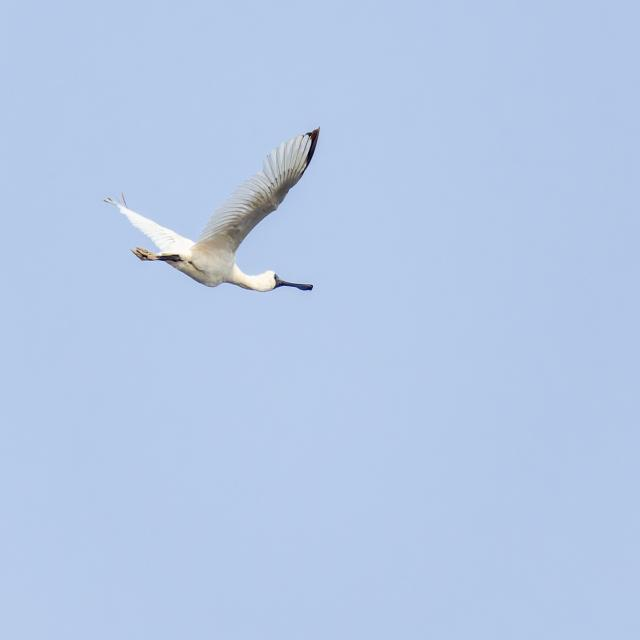Black-faced spoonbill: (105, 129, 319, 291)
